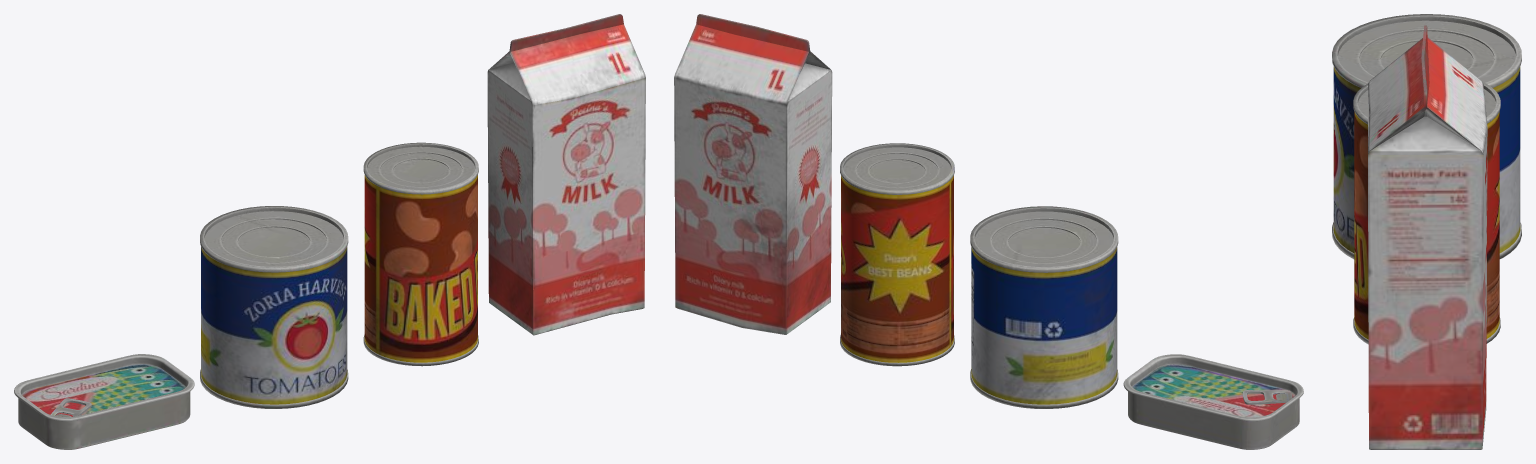
The picture shows the model from 3 angles, left to right: view 1: azimuth 30°, elevation 25°; view 2: azimuth 150°, elevation 25°; view 3: azimuth 270°, elevation 25°; orthographic projection. The views are drawn at different scales.
Parts seen in each view (by area): view 1: long_life_food_milk, long_life_food_tomatoes, long_life_food_beans, long_life_food_sardines; view 2: long_life_food_milk, long_life_food_tomatoes, long_life_food_beans, long_life_food_sardines; view 3: long_life_food_milk, long_life_food_tomatoes, long_life_food_beans.
Boxes of the visible parts, bbox=[...] form: long_life_food_milk: bbox=[487, 14, 645, 335]; long_life_food_tomatoes: bbox=[200, 206, 348, 408]; long_life_food_beans: bbox=[363, 142, 478, 366]; long_life_food_sardines: bbox=[14, 354, 194, 449]; long_life_food_milk: bbox=[674, 14, 832, 334]; long_life_food_tomatoes: bbox=[970, 206, 1118, 408]; long_life_food_beans: bbox=[840, 143, 954, 366]; long_life_food_sardines: bbox=[1123, 354, 1303, 449]; long_life_food_milk: bbox=[1368, 25, 1487, 449]; long_life_food_tomatoes: bbox=[1332, 14, 1521, 259]; long_life_food_beans: bbox=[1353, 81, 1500, 344].
Size of the model in its own units: 0.5238 by 0.2376 by 0.1136.
1 material, 1 textured.
